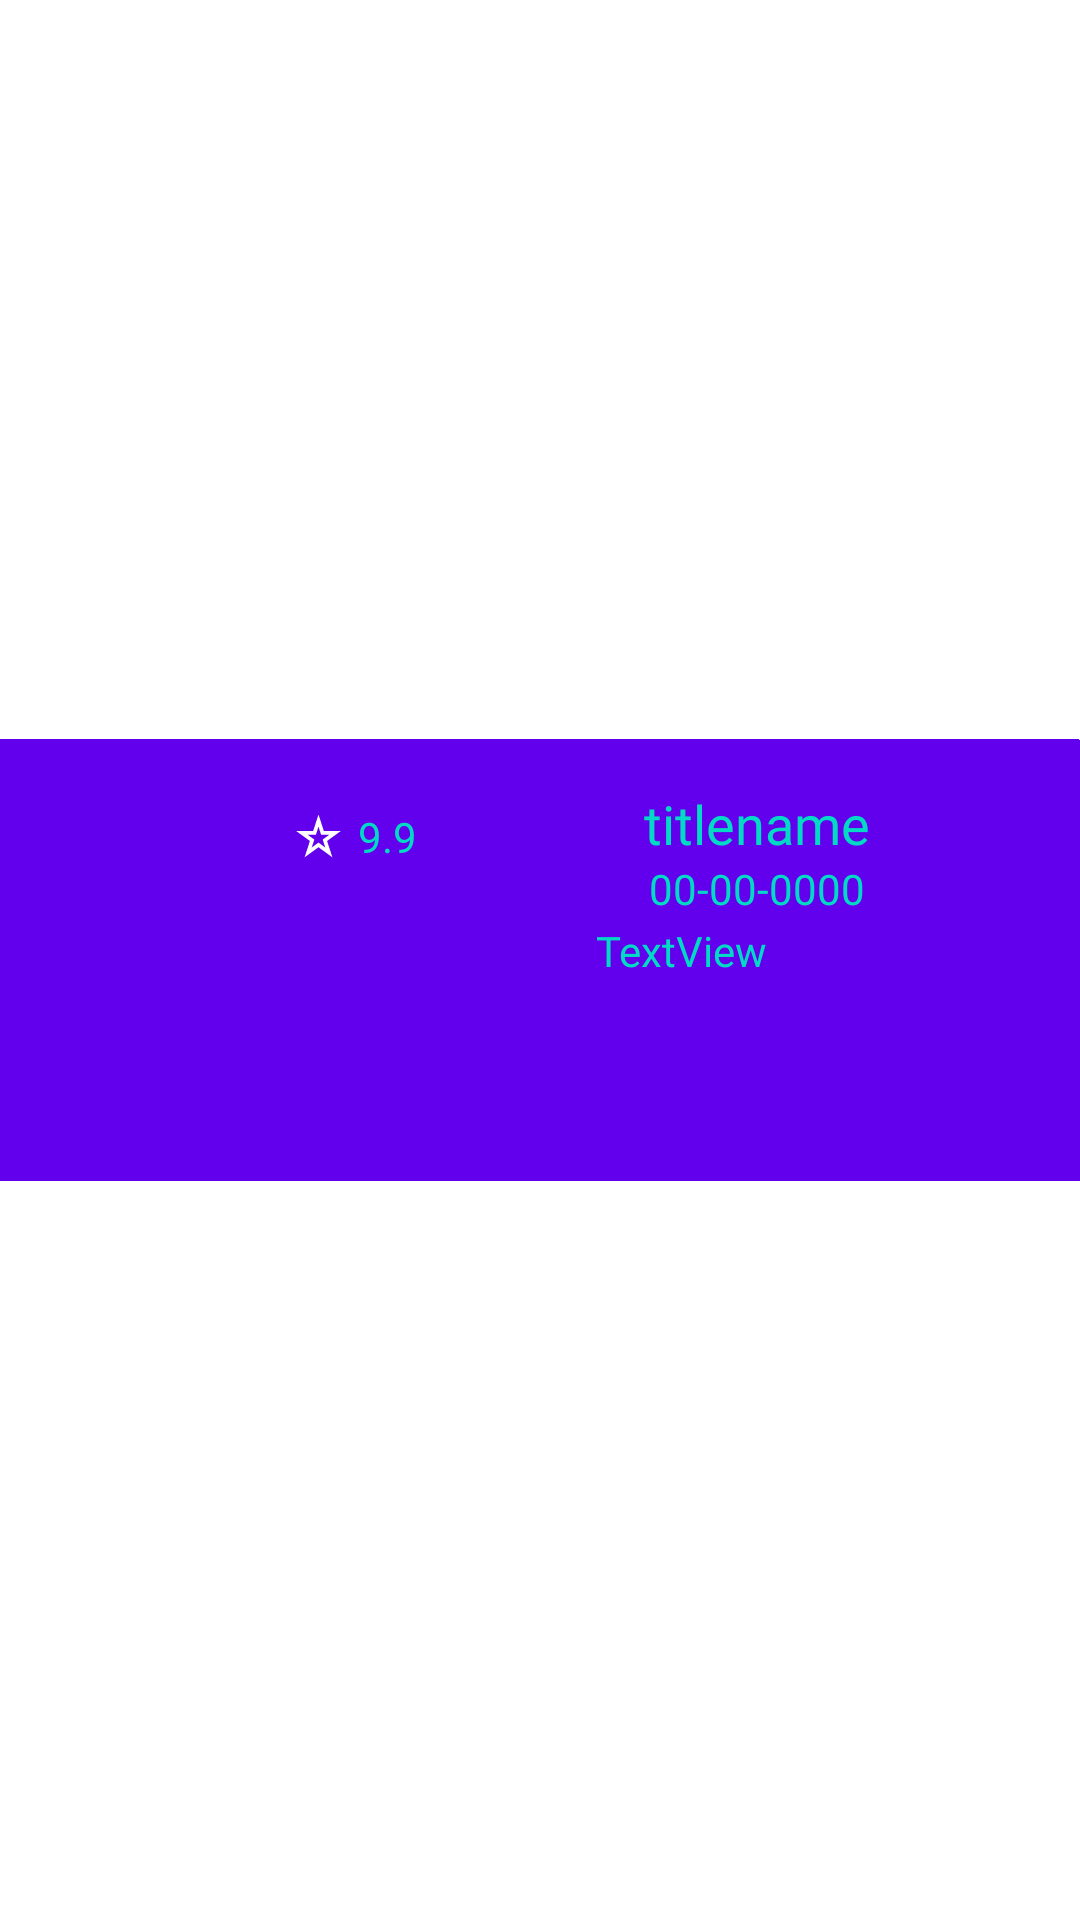

Point at icon controls on the screen. Image size 1080*1920, points as [x,y].
iconmonstr star: [318,836]
